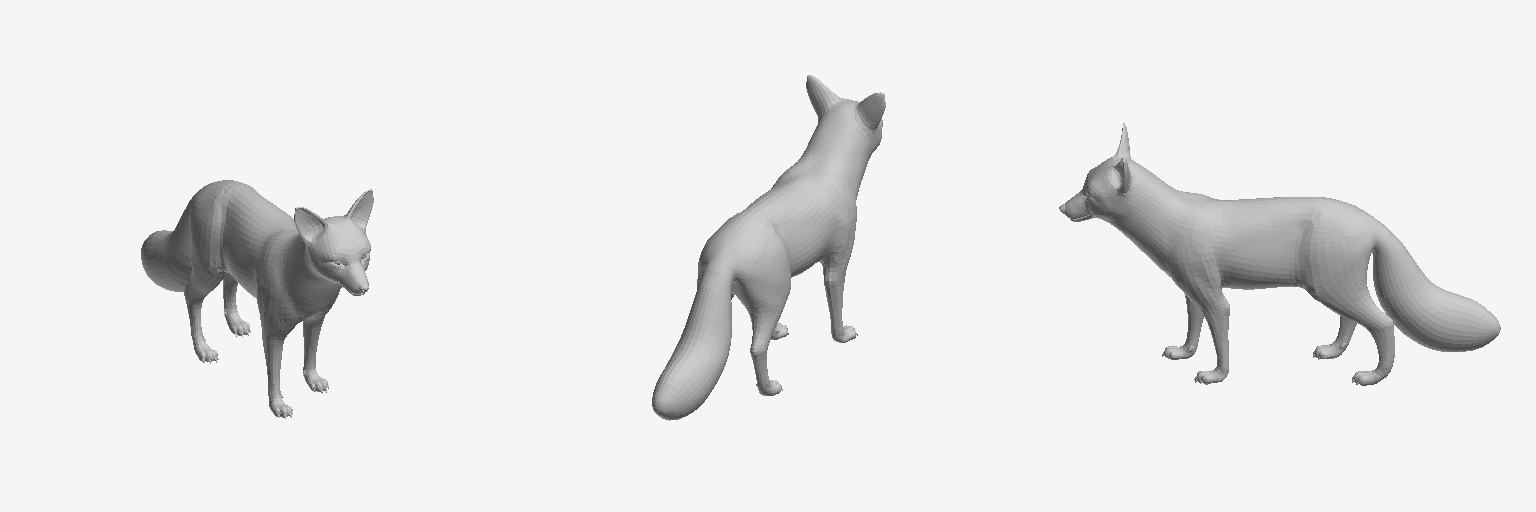
3 views of the same model, side by side, from view 1: azimuth 30°, elevation 25°; view 2: azimuth 150°, elevation 25°; view 3: azimuth 270°, elevation 25° (orthographic).
Visible parts, largest first — view 1: fox1; view 2: fox1; view 3: fox1.
Part boxes in pixels (x1,y1,x2,y2): fox1: (141,180,373,418); fox1: (652,75,885,420); fox1: (1059,123,1500,385).
Bounding box in the file's own units: 0.5628 × 1.56 × 2.72.